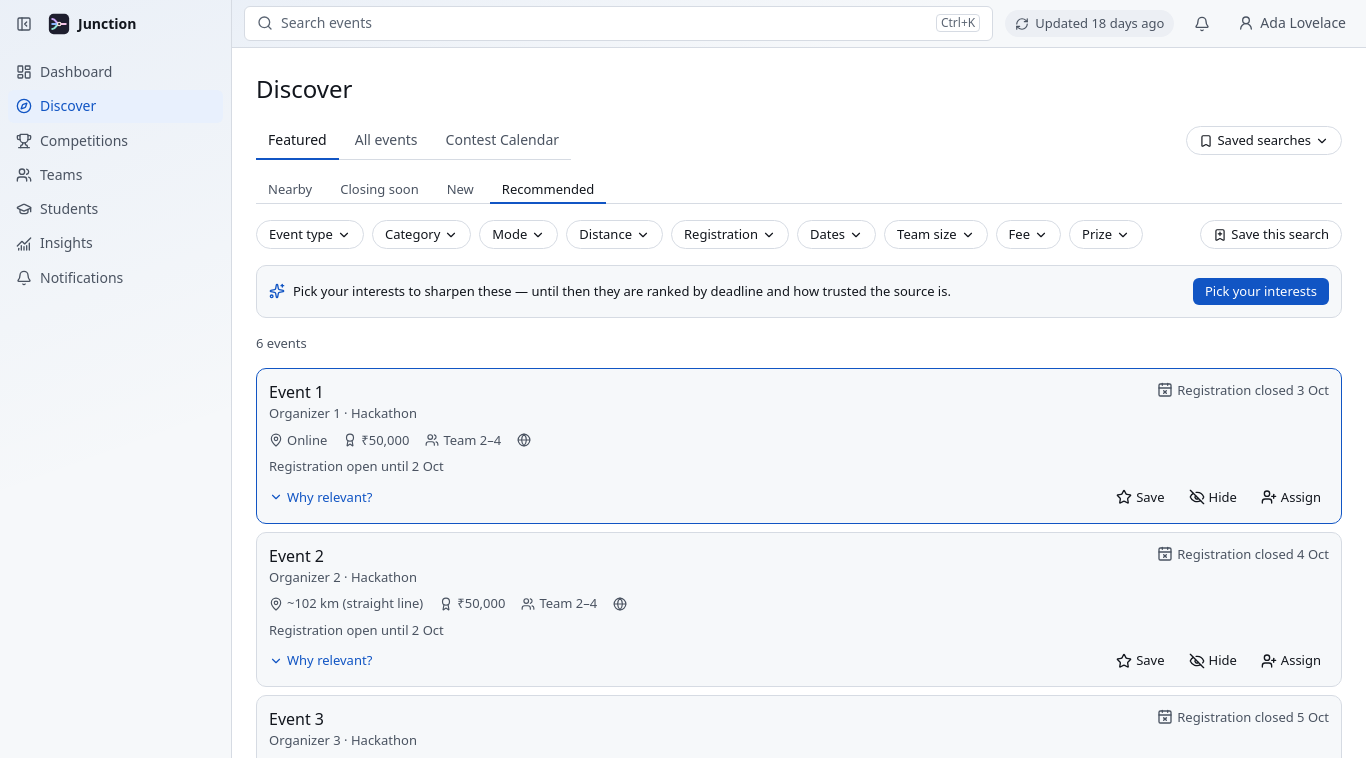
it: saving and applying › shows the server’s refusal of a taken name in the dialog
expect the navigation bar named "Main" is shown: met, box [0,0,231,302]
expect the heading "Event 1" is shown: met, box [269,381,324,404]
Click the button "Save this search". click: point(1271, 235)
box: [1200,220,1342,249]
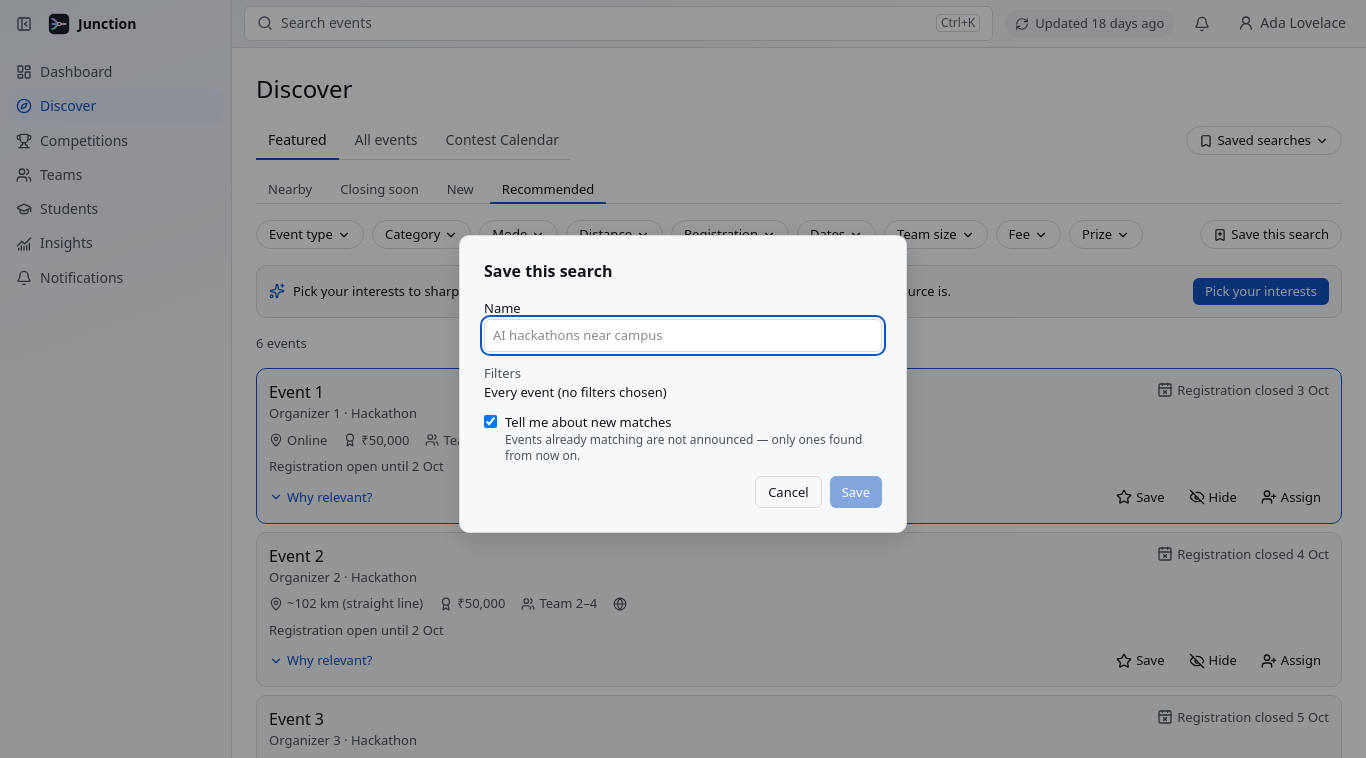
expect the checkbox labelled "Tell me about new matches" is checked: met, box [484,415,497,428]
Type "Mine" into the field labelled "Name". click: point(683, 336)
box: [484,320,882,352]
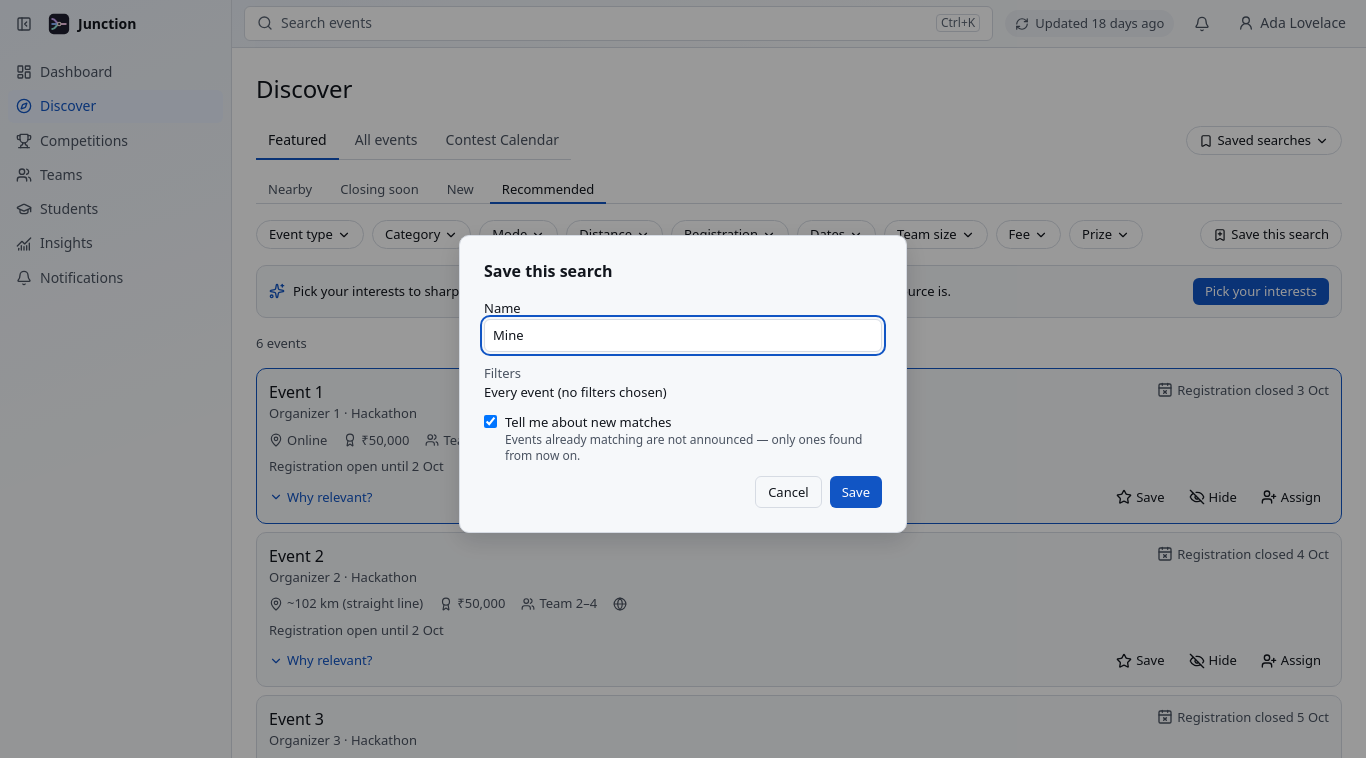
Click the button "Save". click: point(856, 492)
box: [830,476,882,508]
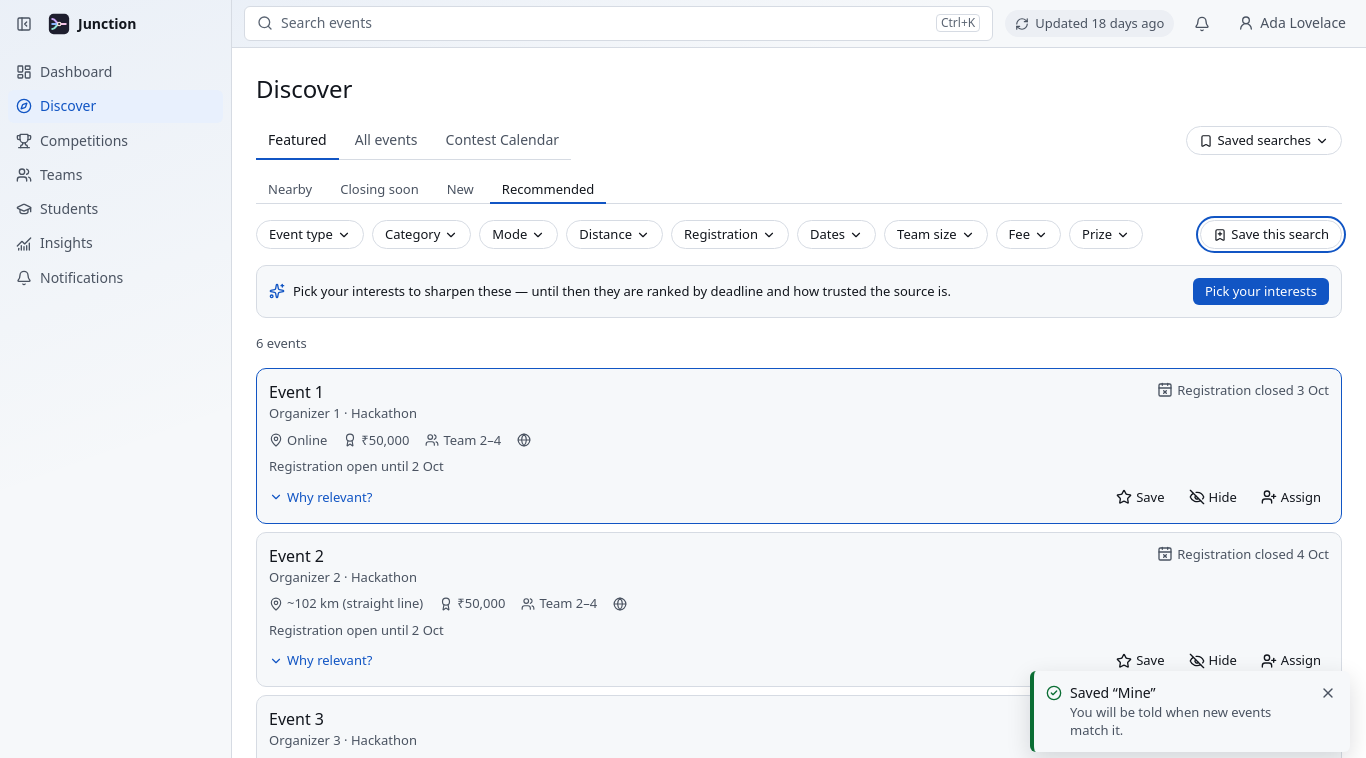
Click the button "Save this search". click: point(1271, 235)
box: [1200,220,1342,249]
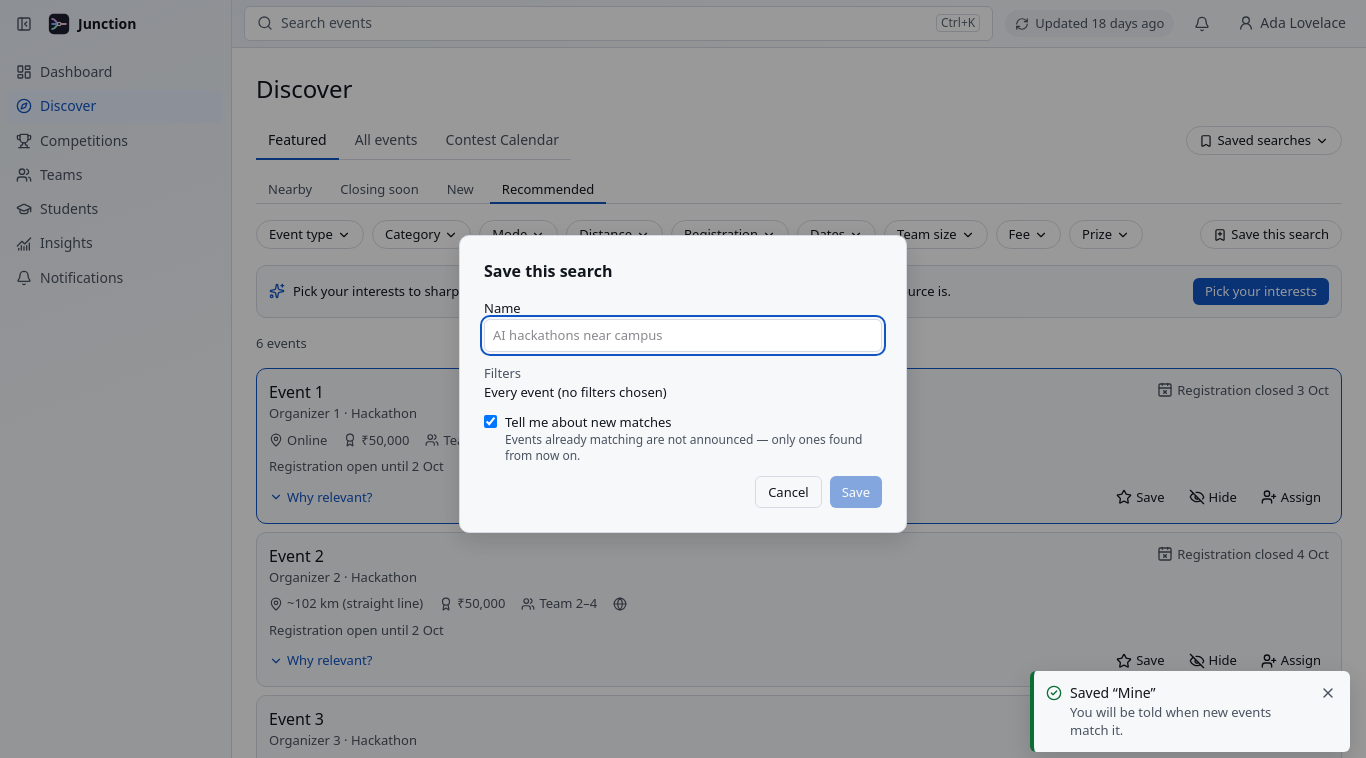
Type "MINE" into the field labelled "Name". click: point(683, 336)
box: [484,320,882,352]
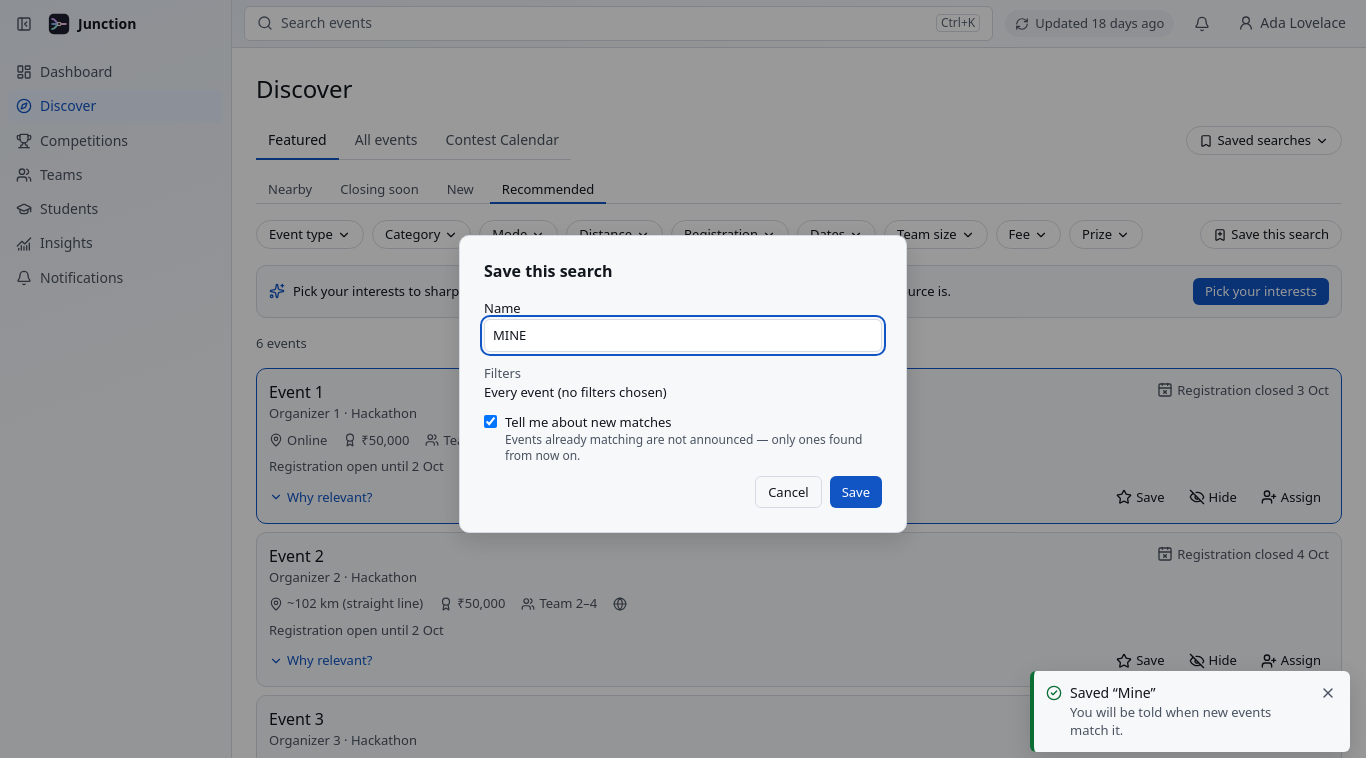
Click the button "Save". click: point(856, 492)
box: [830,476,882,508]
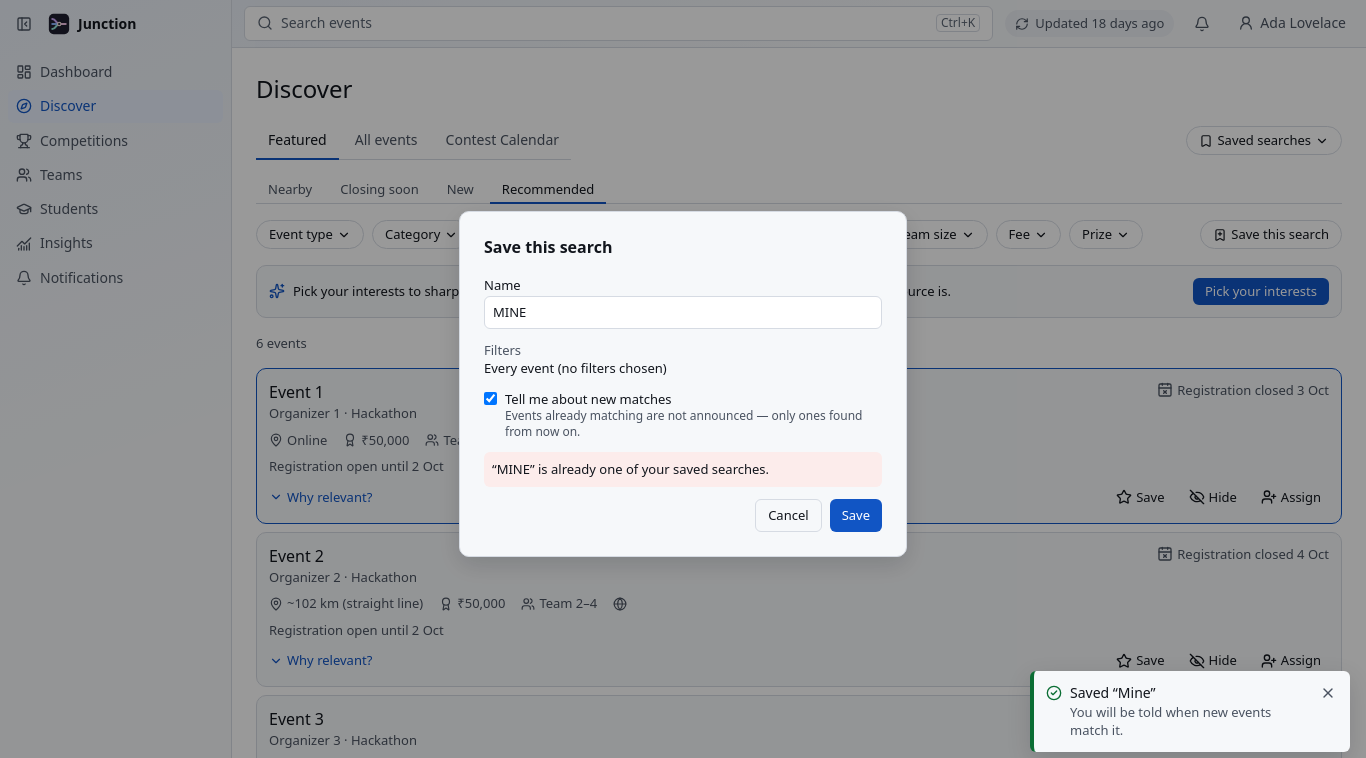
expect the message "“MINE” is already one of your saved searches." is shown: met, box [484,452,882,487]
